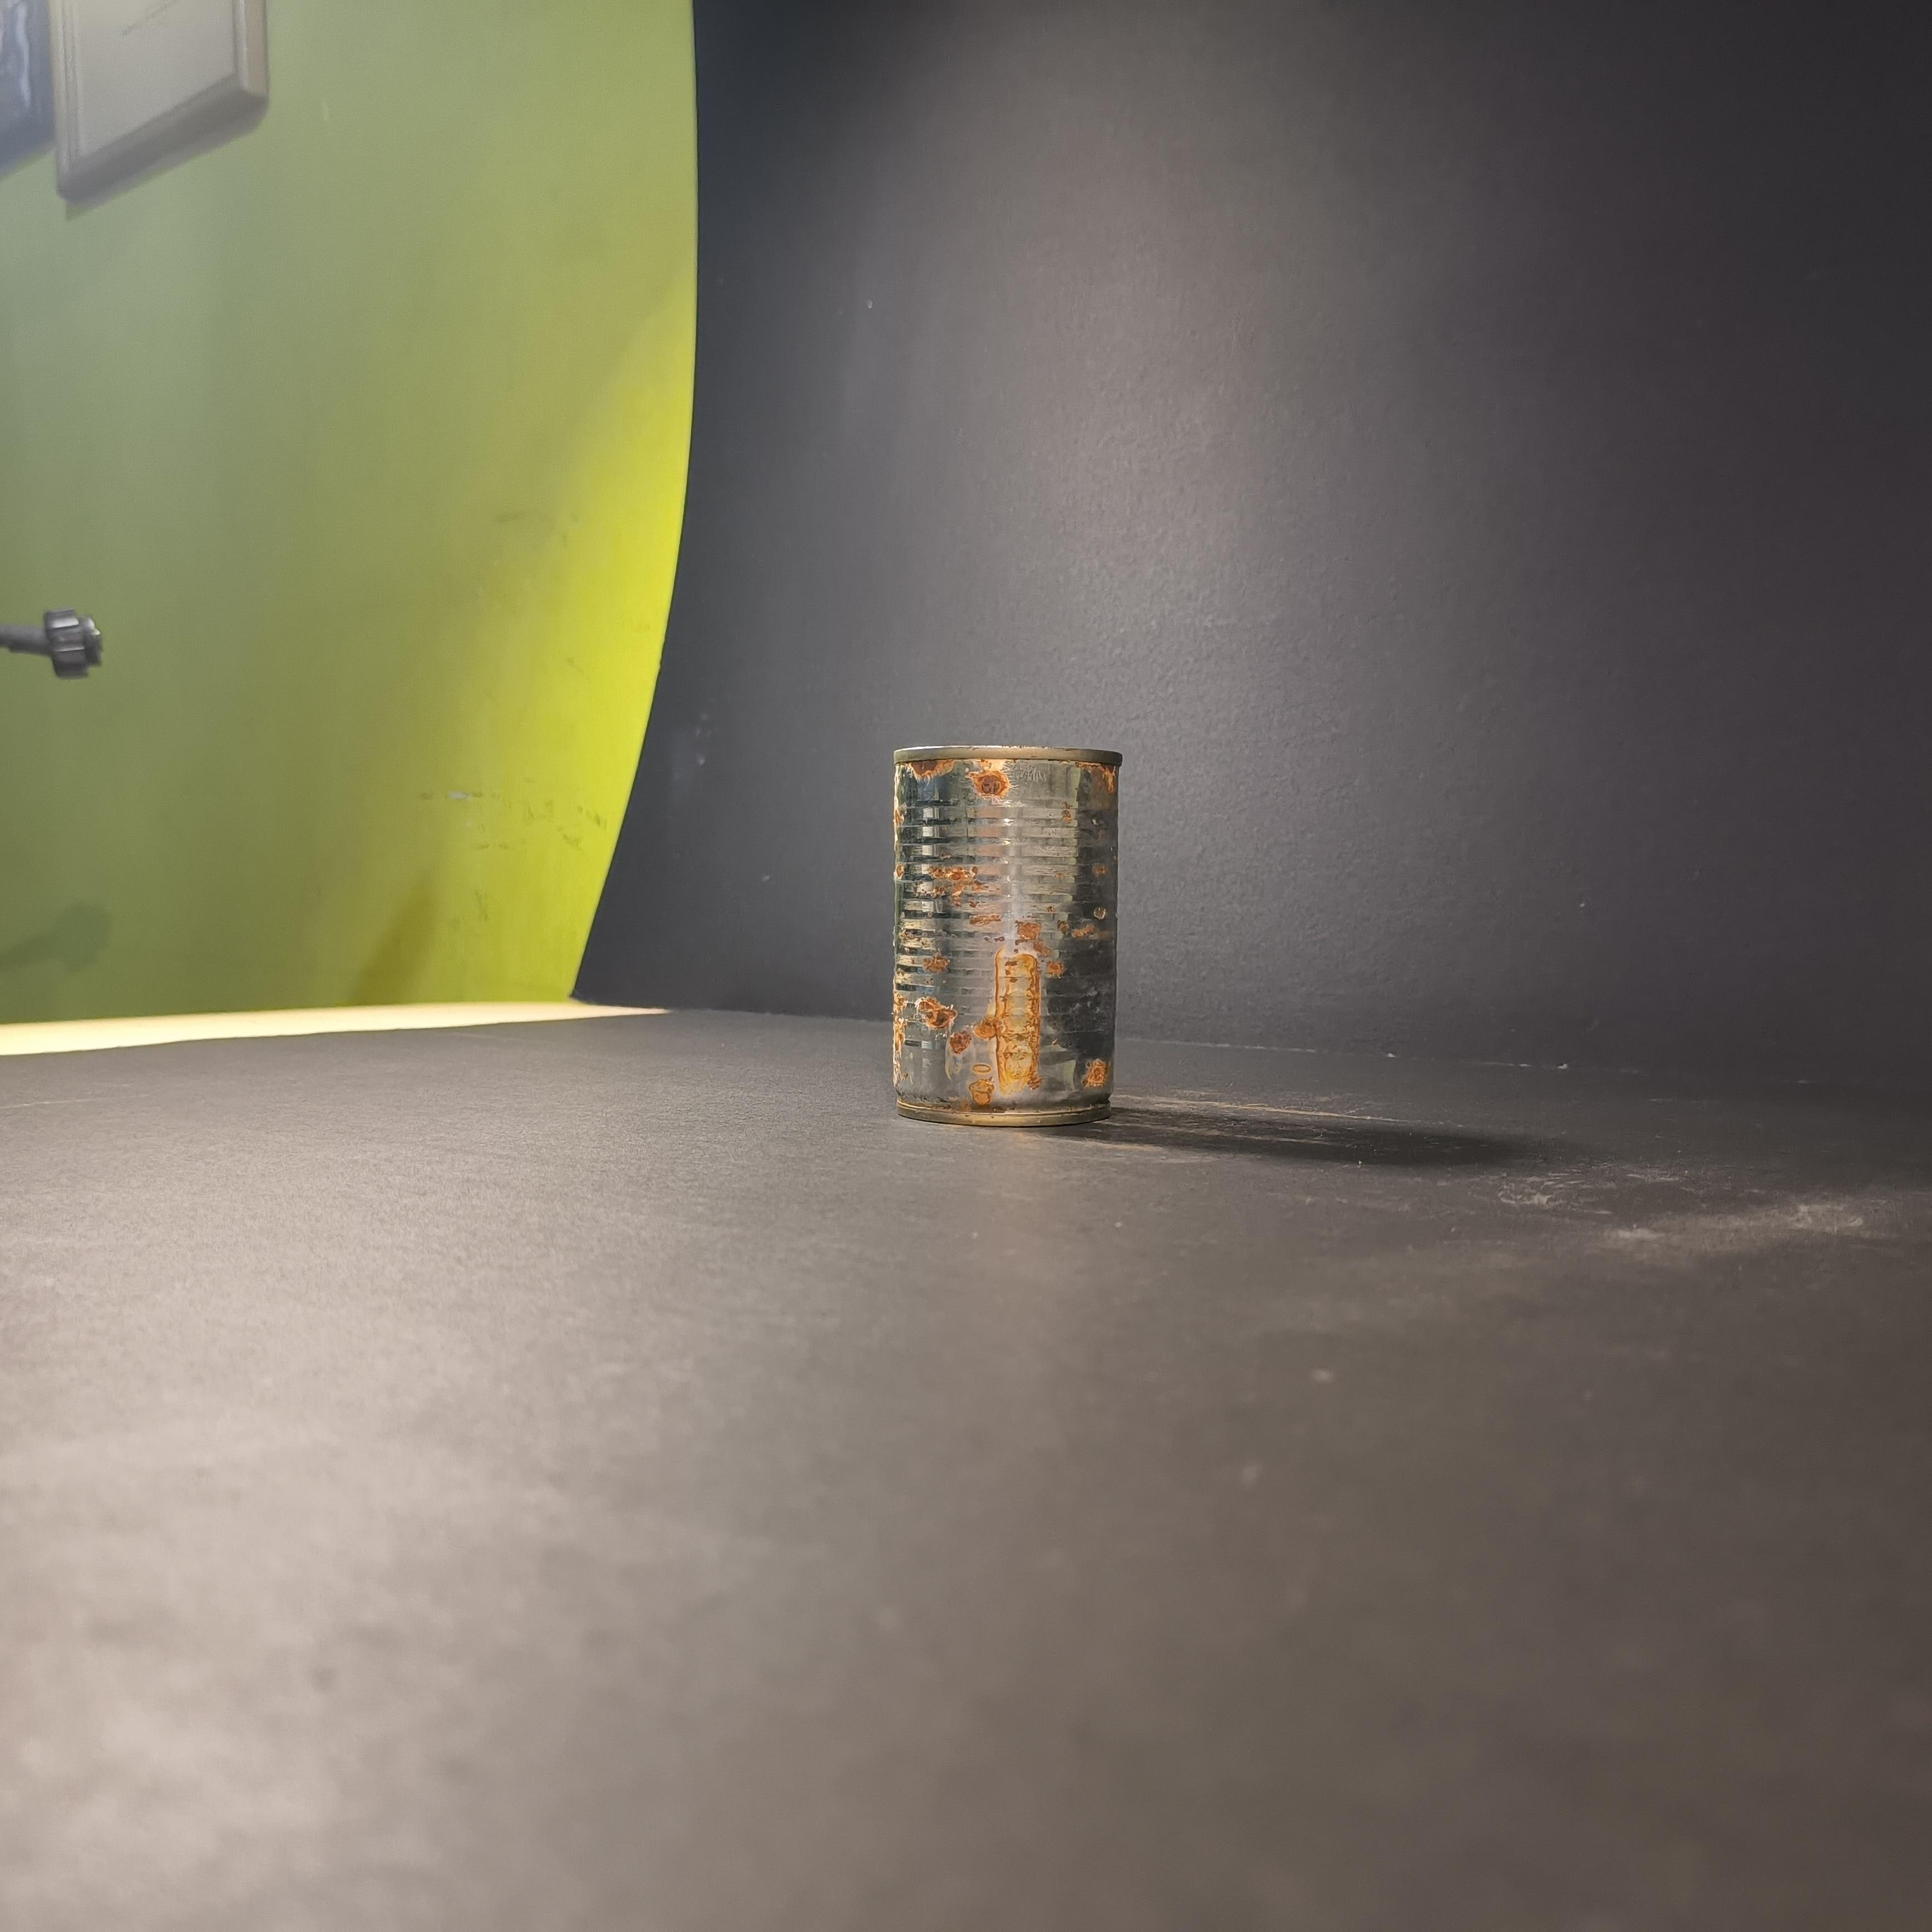Rusted: (874, 720, 1138, 1141)
